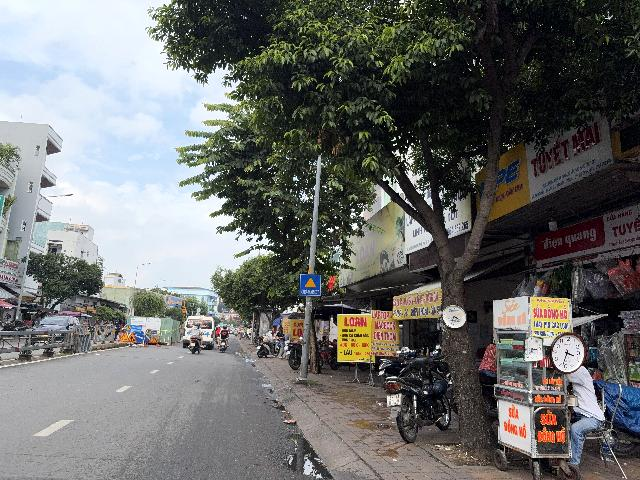khu-vuc-cho-phia-truoc: (300, 274, 321, 296)
